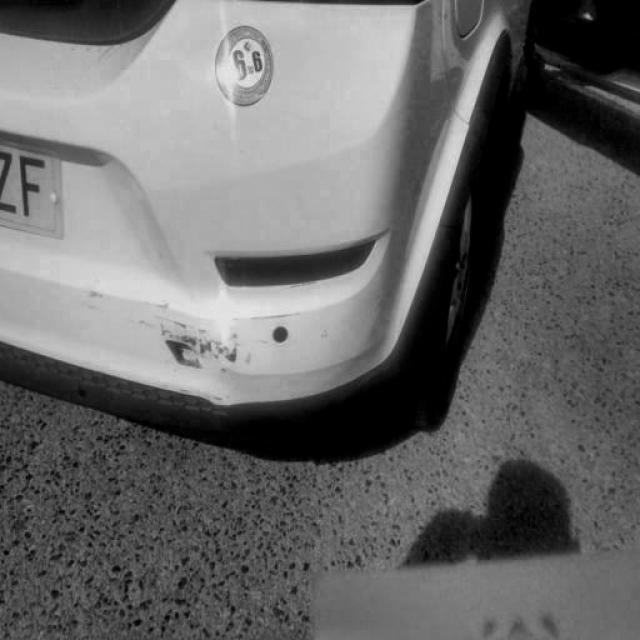car damage: (147, 304, 254, 383), (252, 308, 310, 326), (84, 280, 113, 312)
